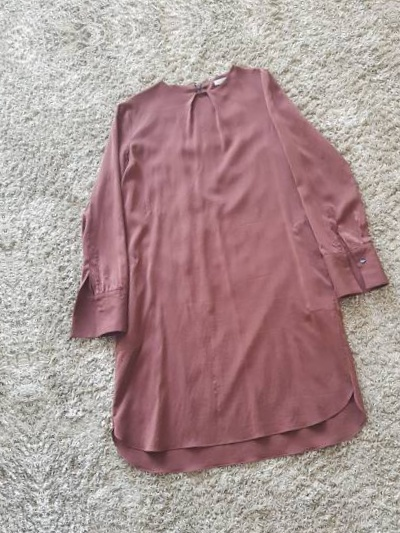Dress: (0, 23, 400, 502), (0, 78, 26, 533), (0, 0, 358, 21)
